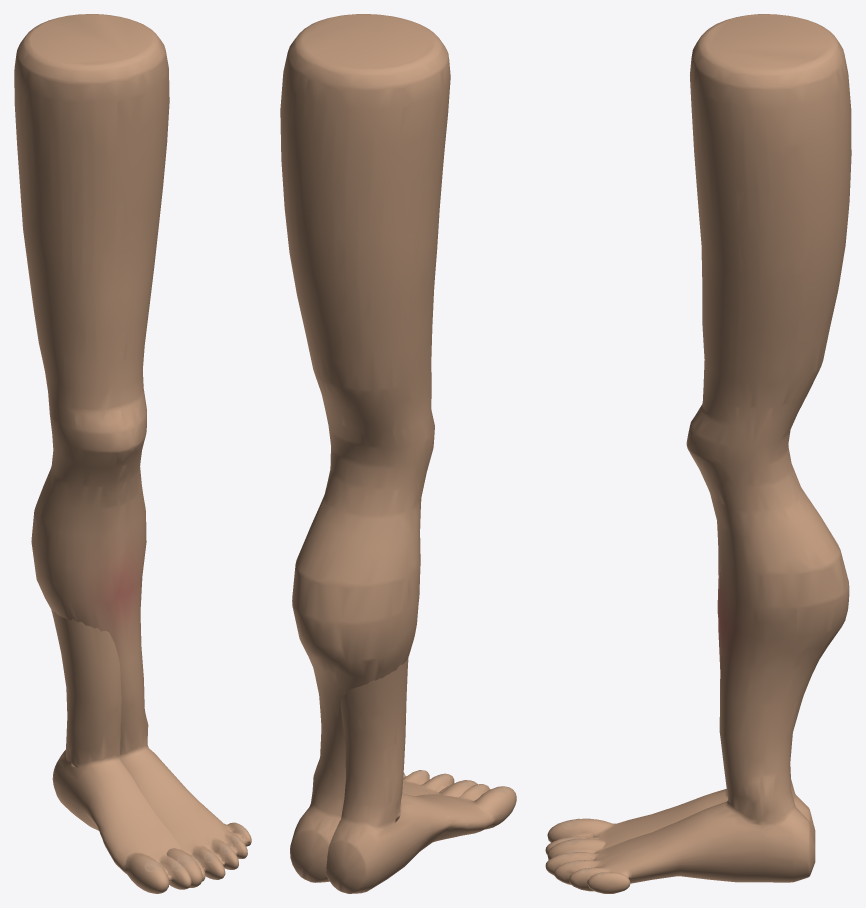
Rendered from FirstAid_Leg_ClosedFracture.glb.
3 views of the same model, side by side, from view 1: azimuth 30°, elevation 25°; view 2: azimuth 150°, elevation 25°; view 3: azimuth 270°, elevation 25° (orthographic). The views are drawn at different scales.
Parts seen in each view (by area): view 1: Leg_Normal, Leg_Fractured, Toenails_Fractured; view 2: Leg_Normal, Leg_Fractured; view 3: Leg_Normal, Leg_Fractured.
Boxes of the visible parts, box(x1,y1,x2,y2) form: Leg_Normal: box(14, 14, 205, 893); Leg_Fractured: box(31, 436, 251, 887); Toenails_Fractured: box(176, 826, 247, 867); Leg_Normal: box(280, 14, 516, 893); Leg_Fractured: box(290, 448, 477, 882); Leg_Normal: box(545, 14, 851, 855); Leg_Fractured: box(545, 450, 849, 893).
Bounding box in the file's own units: 0.1848 × 0.9367 × 0.314.
